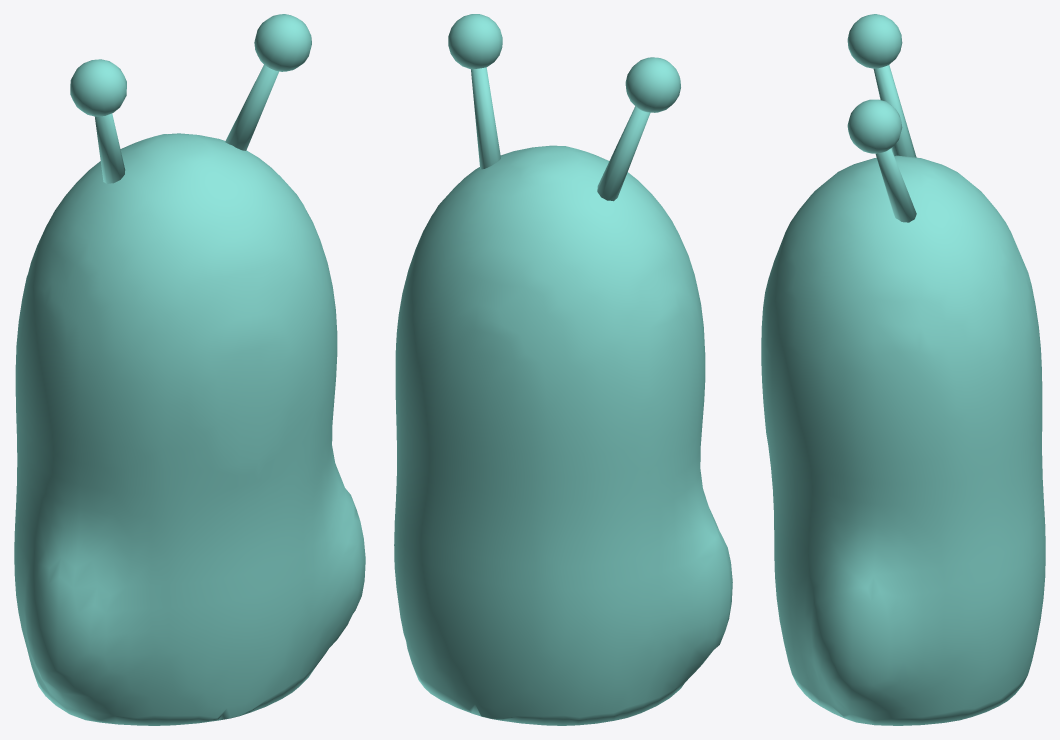
File: head_bean.glb
3 renders of one model, left to right at view 1: azimuth 30°, elevation 25°; view 2: azimuth 150°, elevation 25°; view 3: azimuth 270°, elevation 25°, orthographic. The views are drawn at different scales.
Visible parts, largest first — view 1: BeanHead, BeanStalkRight, BeanStalkLeft; view 2: BeanHead, BeanStalkLeft, BeanStalkRight; view 3: BeanHead, BeanStalkRight, BeanStalkLeft.
Part boxes in pixels (x1,y1,x2,y2): BeanHead: (14,133,365,725); BeanStalkRight: (225,14,311,150); BeanStalkLeft: (70,59,126,184); BeanHead: (394,145,732,725); BeanStalkLeft: (597,57,680,201); BeanStalkRight: (448,14,502,169); BeanHead: (761,155,1045,725); BeanStalkRight: (847,99,916,222); BeanStalkLeft: (847,14,916,157).
Bounding box in the file's own units: 0.4085 × 0.7855 × 0.3318.
